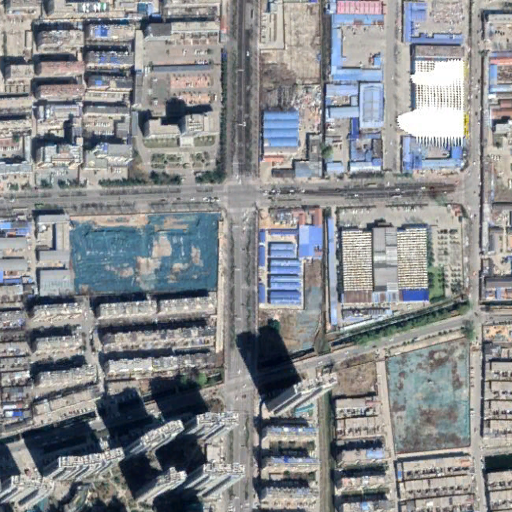cw: (70, 216, 218, 294), (387, 334, 474, 459)
